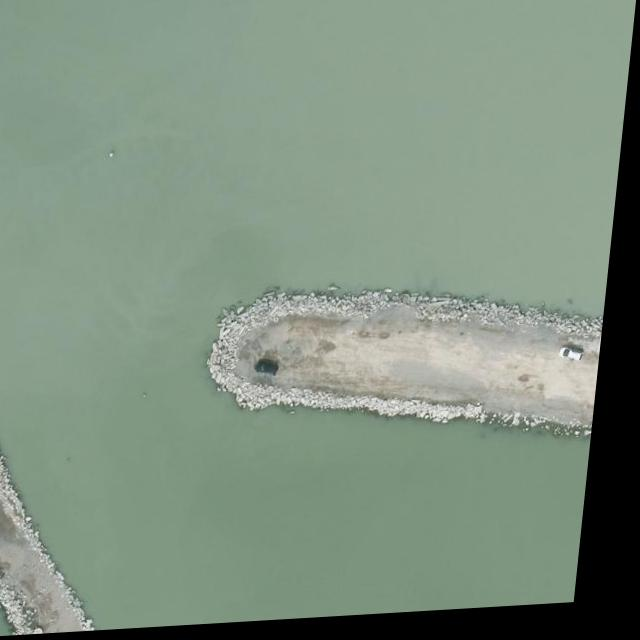vehicle: (262, 363, 289, 381), (566, 354, 592, 371)
